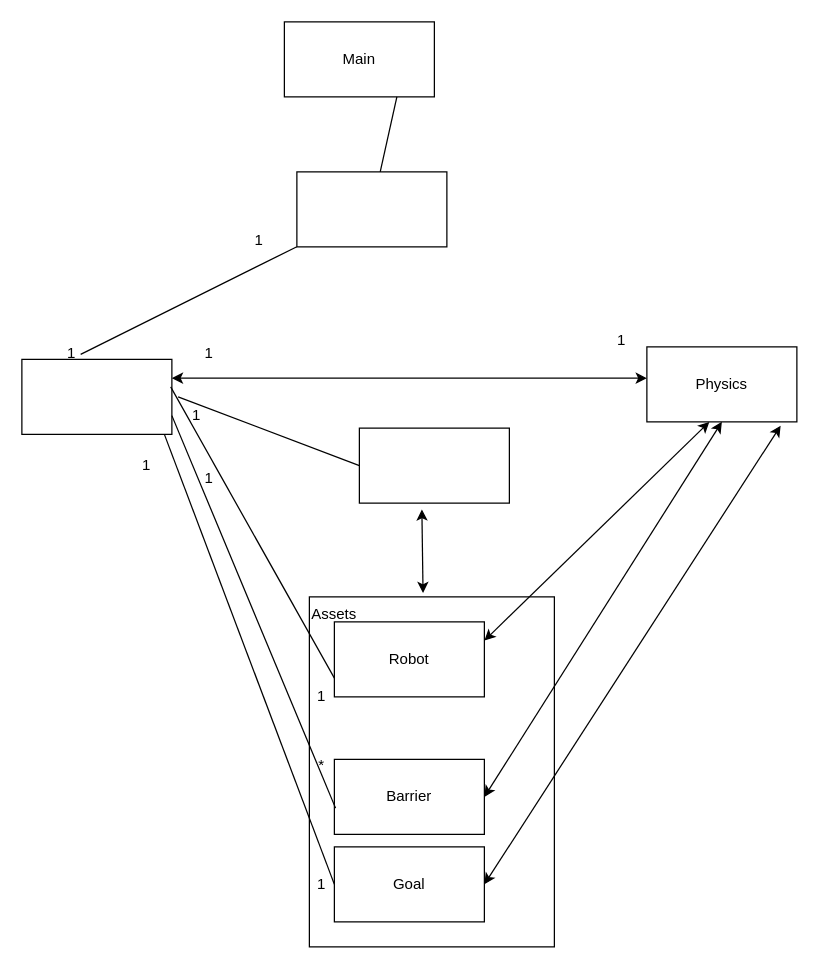
Image size: 819x969. Some labels were removed from this diagram. The centre of each missing label's shape, as x and y in pixels:
.csv file: point (433, 465)
Gameloop: point (371, 209)
Level: point (96, 396)
